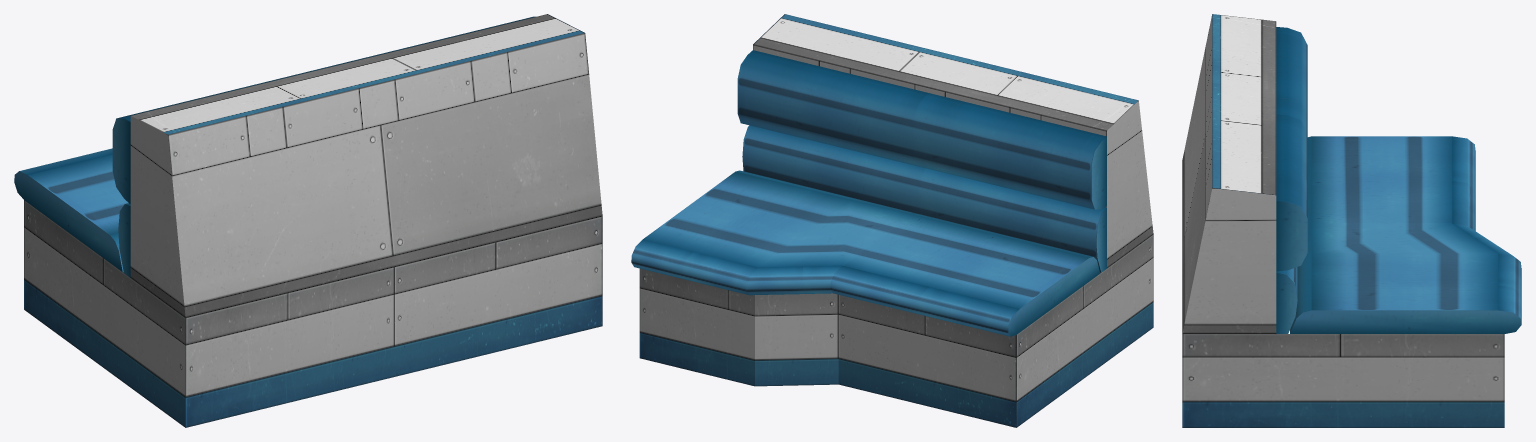
The model's file is Seat_EndLeft_01.FBX.
3 views of the same model, side by side, from view 1: azimuth 30°, elevation 25°; view 2: azimuth 150°, elevation 25°; view 3: azimuth 270°, elevation 25° (orthographic). The views are drawn at different scales.
Parts seen in each view (by area): view 1: Seat_EndLeft_01; view 2: Seat_EndLeft_01; view 3: Seat_EndLeft_01.
Part boxes in pixels (box(x1,y1,x2,y2)): Seat_EndLeft_01: box(14, 14, 602, 427); Seat_EndLeft_01: box(631, 14, 1153, 427); Seat_EndLeft_01: box(1182, 14, 1521, 427).
Bounding box in the file's own units: 67.26 × 43.22 × 55.37.
